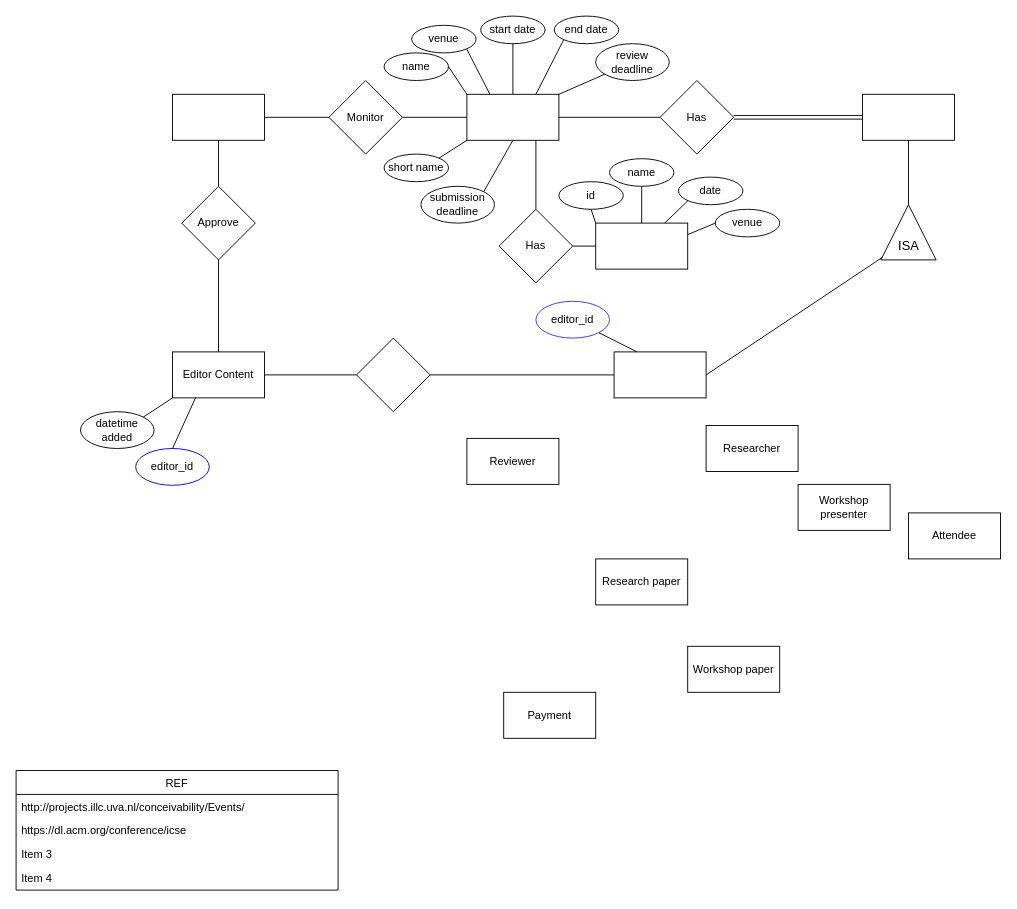
This 1017x909 diagram has some shape labels left out. The centre of each missing label's shape, as x and y in pixels:
Admin: [218,116]
Conference: [512,116]
Conference Events: [641,245]
Editor: [659,374]
Manages: [393,374]
Participants: [908,116]
